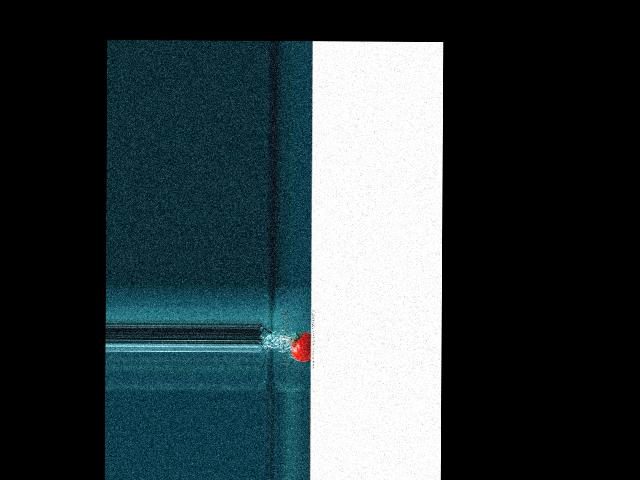tomato: (291, 331, 311, 361)
